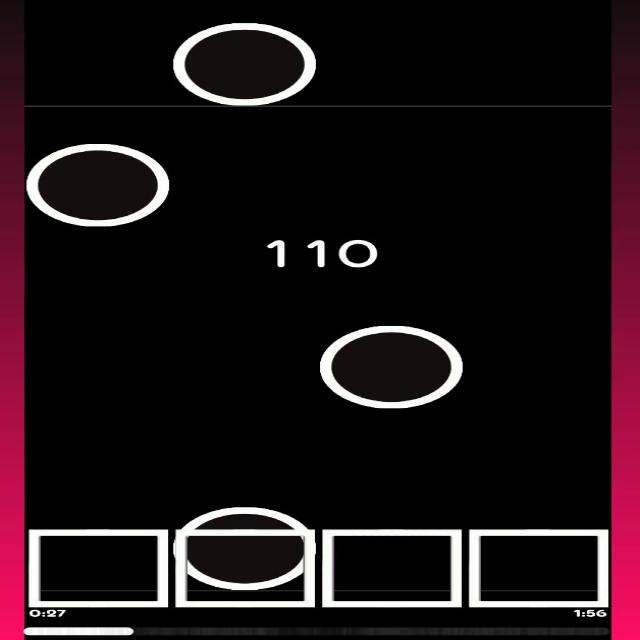note: (316, 318, 466, 412), (23, 139, 171, 228), (168, 19, 321, 105), (178, 500, 311, 592)
